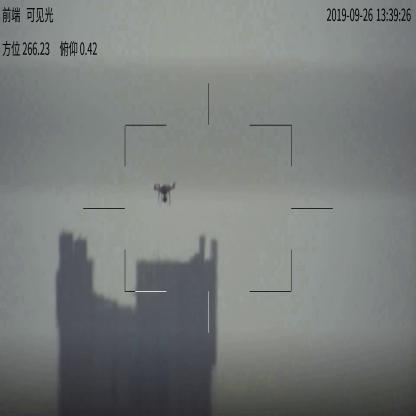uav: (152, 181, 178, 206)
